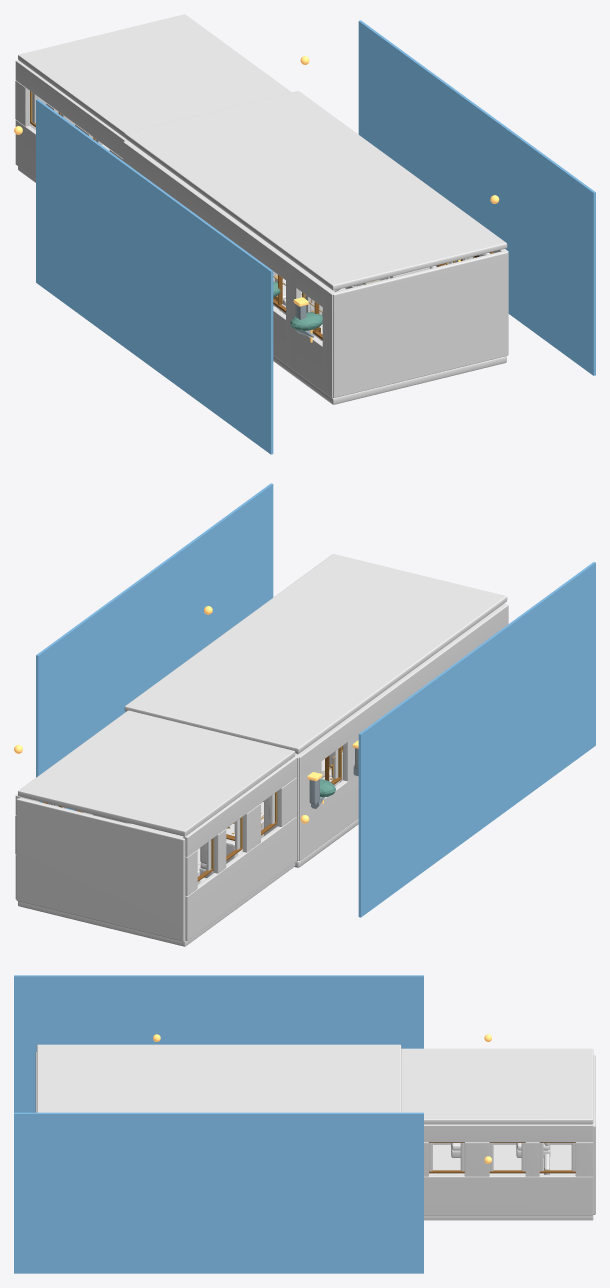
The model's file is train_carriage.glb.
The picture shows the model from 3 angles, top to bottom: view 1: azimuth 30°, elevation 25°; view 2: azimuth 150°, elevation 25°; view 3: azimuth 270°, elevation 25°; orthographic projection. The views are drawn at different scales.
Parts seen in each view (by area): view 1: Exterior | endless twilight, Ceiling | inner canopy, Exterior | endless twilight.001, Front wall | end panel, Next carriage | ceiling canopy, Side wall | upper mahogany, Next carriage | left upper wall, Side wall | lower mahogany, Floor | dark oak foundation, Side wall | end pier, Side wall | window pier.004, Next carriage | left lower wall (+1 smaller); view 2: Exterior | endless twilight, Ceiling | inner canopy, Exterior | endless twilight.001, Next carriage | ceiling canopy, Next carriage | distant end wall, Next carriage | left lower wall, Side wall | upper mahogany, Next carriage | left upper wall, Side wall | lower mahogany, Side wall | window pier, Next carriage | walnut floor, Next carriage | window end pier (+2 smaller); view 3: Exterior | endless twilight.001, Exterior | endless twilight, Ceiling | inner canopy, Next carriage | ceiling canopy, Next carriage | right lower wall, Next carriage | right upper wall, Next carriage | walnut floor, Next carriage | window pier.005, Next carriage | window pier.003, Next carriage | window pier.004, Next carriage | distant end wall.
Part boxes in pixels (left/top/right/bottom): Exterior | endless twilight: left=36, top=99, right=273, bottom=454; Ceiling | inner canopy: left=124, top=91, right=507, bottom=290; Exterior | endless twilight.001: left=358, top=20, right=595, bottom=375; Front wall | end panel: left=333, top=251, right=507, bottom=397; Next carriage | ceiling canopy: left=18, top=14, right=291, bottom=137; Side wall | upper mahogany: left=123, top=141, right=333, bottom=313; Next carriage | left upper wall: left=15, top=60, right=127, bottom=158; Side wall | lower mahogany: left=273, top=306, right=332, bottom=398; Floor | dark oak foundation: left=273, top=356, right=506, bottom=404; Side wall | end pier: left=322, top=287, right=334, bottom=397; Side wall | window pier.004: left=286, top=261, right=301, bottom=371; Next carriage | left lower wall: left=15, top=120, right=35, bottom=178; Exterior | endless twilight: left=358, top=562, right=595, bottom=917; Ceiling | inner canopy: left=124, top=554, right=507, bottom=753; Exterior | endless twilight.001: left=36, top=483, right=273, bottom=810; Next carriage | ceiling canopy: left=18, top=710, right=295, bottom=836; Next carriage | distant end wall: left=16, top=797, right=185, bottom=941; Next carriage | left lower wall: left=185, top=816, right=296, bottom=940; Side wall | upper mahogany: left=296, top=606, right=508, bottom=776; Next carriage | left upper wall: left=183, top=756, right=296, bottom=856; Side wall | lower mahogany: left=299, top=776, right=358, bottom=860; Side wall | window pier: left=297, top=741, right=321, bottom=859; Next carriage | walnut floor: left=18, top=823, right=295, bottom=946; Next carriage | window end pier: left=277, top=777, right=296, bottom=826; Exterior | endless twilight.001: left=14, top=1112, right=423, bottom=1273; Exterior | endless twilight: left=14, top=975, right=423, bottom=1112; Ceiling | inner canopy: left=36, top=1044, right=401, bottom=1112; Next carriage | ceiling canopy: left=401, top=1048, right=593, bottom=1124; Next carriage | right lower wall: left=424, top=1175, right=593, bottom=1215; Next carriage | right upper wall: left=424, top=1124, right=593, bottom=1142; Next carriage | walnut floor: left=424, top=1144, right=593, bottom=1220; Next carriage | window pier.005: left=464, top=1142, right=489, bottom=1176; Next carriage | window pier.003: left=575, top=1142, right=593, bottom=1176; Next carriage | window pier.004: left=525, top=1142, right=539, bottom=1176; Next carriage | distant end wall: left=593, top=1055, right=595, bottom=1214.
Bounding box in the file's own units: 10.78 × 5.8 × 19.16.
